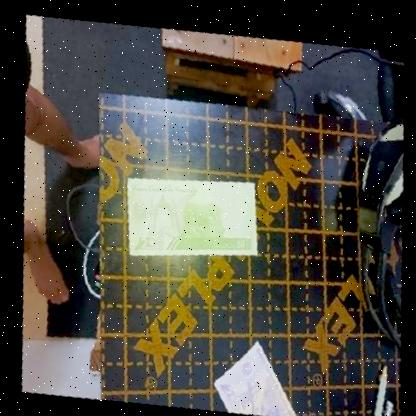fifty-back-vef: (116, 154, 267, 278)
